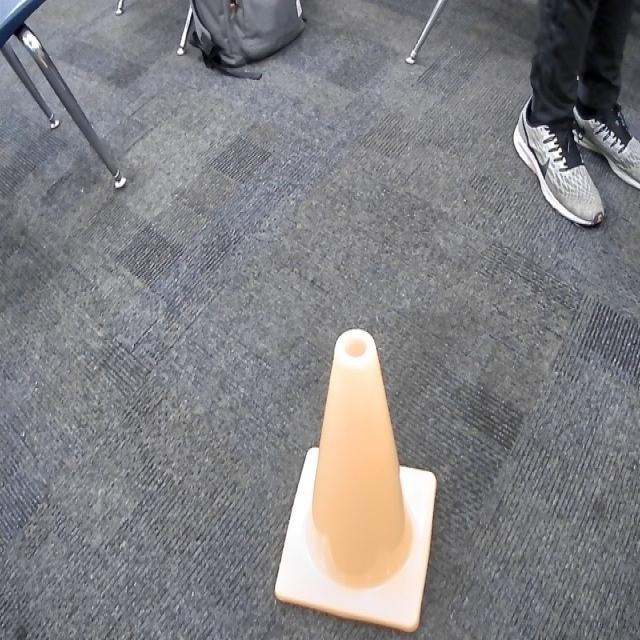cone: (272, 323, 439, 640)
